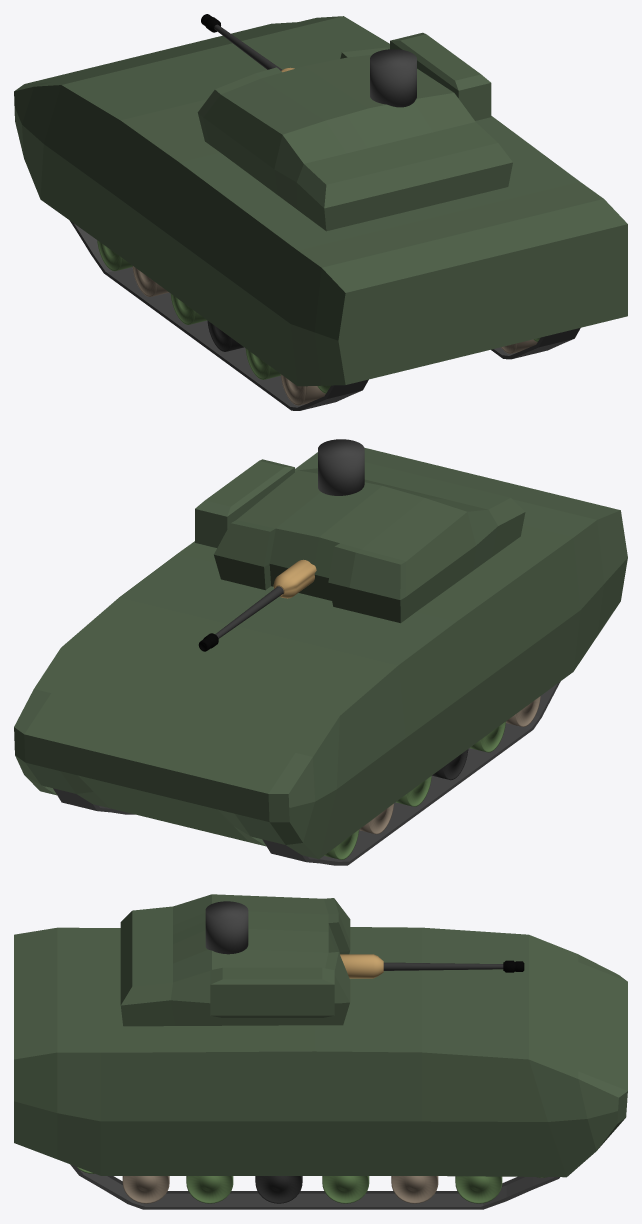
File: bwp_borsuk.glb
3 views of the same model, one above another, from view 1: azimuth 30°, elevation 25°; view 2: azimuth 150°, elevation 25°; view 3: azimuth 270°, elevation 25° (orthographic). The views are drawn at different scales.
Visible parts, largest first — view 1: Cube, Cube.001, Cube.004, Cube.002, Cylinder.003, Cube.003, Cylinder.017, Cylinder.001; view 2: Cube, Cube.001, Cube.004, Cube.002, Cylinder.003, Cylinder, Cylinder.001, Cube.003; view 3: Cube, Cube.001, Cube.002, Cube.003, Cylinder.003, Cylinder.004, Cylinder.005, Cylinder.008, Cylinder.009, Cylinder.007, Cylinder.010, Cylinder (+1 smaller).
Boxes of the visible parts, box(x1,y1,x2,y2) form: Cube: box(14, 16, 627, 386); Cube.001: box(197, 47, 512, 231); Cube.004: box(70, 221, 368, 410); Cube.002: box(390, 32, 491, 120); Cylinder.003: box(370, 49, 416, 107); Cube.003: box(491, 328, 580, 359); Cylinder.017: box(280, 374, 325, 405); Cylinder.001: box(214, 24, 281, 70); Cube: box(14, 447, 627, 859); Cube.001: box(214, 462, 525, 623); Cube.004: box(262, 681, 560, 865); Cube.002: box(195, 459, 294, 547); Cylinder.003: box(318, 439, 364, 495); Cylinder: box(273, 559, 316, 598); Cylinder.001: box(215, 586, 283, 638); Cube.003: box(53, 788, 134, 814); Cube: box(14, 927, 627, 1177); Cube.001: box(120, 894, 350, 1026); Cube.002: box(210, 967, 334, 1017); Cube.003: box(70, 1164, 559, 1209); Cylinder.003: box(205, 901, 248, 954); Cylinder.004: box(186, 1176, 233, 1203); Cylinder.005: box(122, 1176, 169, 1203); Cylinder.008: box(391, 1176, 438, 1203); Cylinder.009: box(322, 1176, 369, 1203); Cylinder.007: box(255, 1176, 302, 1203); Cylinder.010: box(455, 1176, 502, 1203); Cylinder: box(340, 954, 383, 978).
Bounding box in the file's own units: 1.46 × 1.32 × 2.87.
